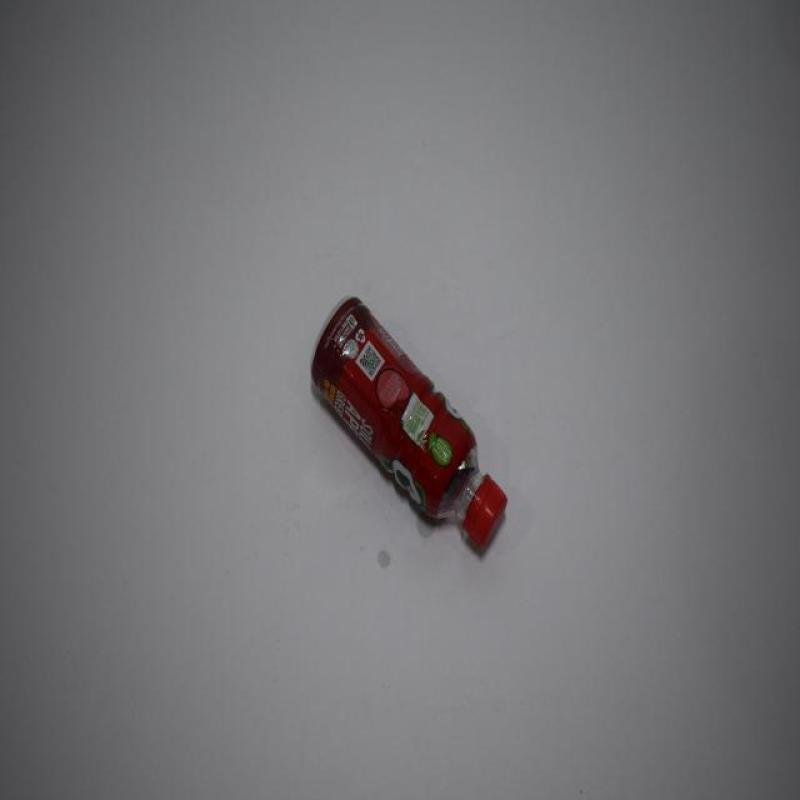botella: (309, 299, 511, 556)
